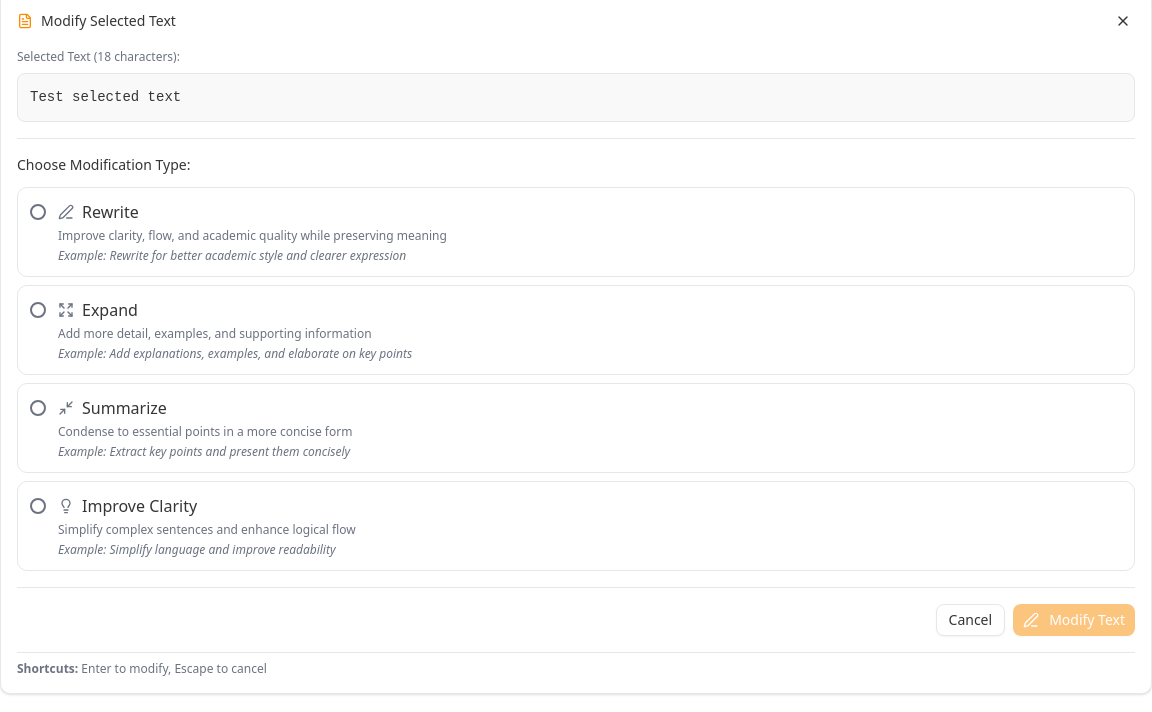
Test: AIModifyInterface › enables the modify button when an option is selected
Expected: the button "Modify Text" is disabled, x1=1013 y1=604 x2=1135 y2=636
Click the button "Rewrite": (110, 212) x1=17 y1=187 x2=1135 y2=277
(page scrolled)
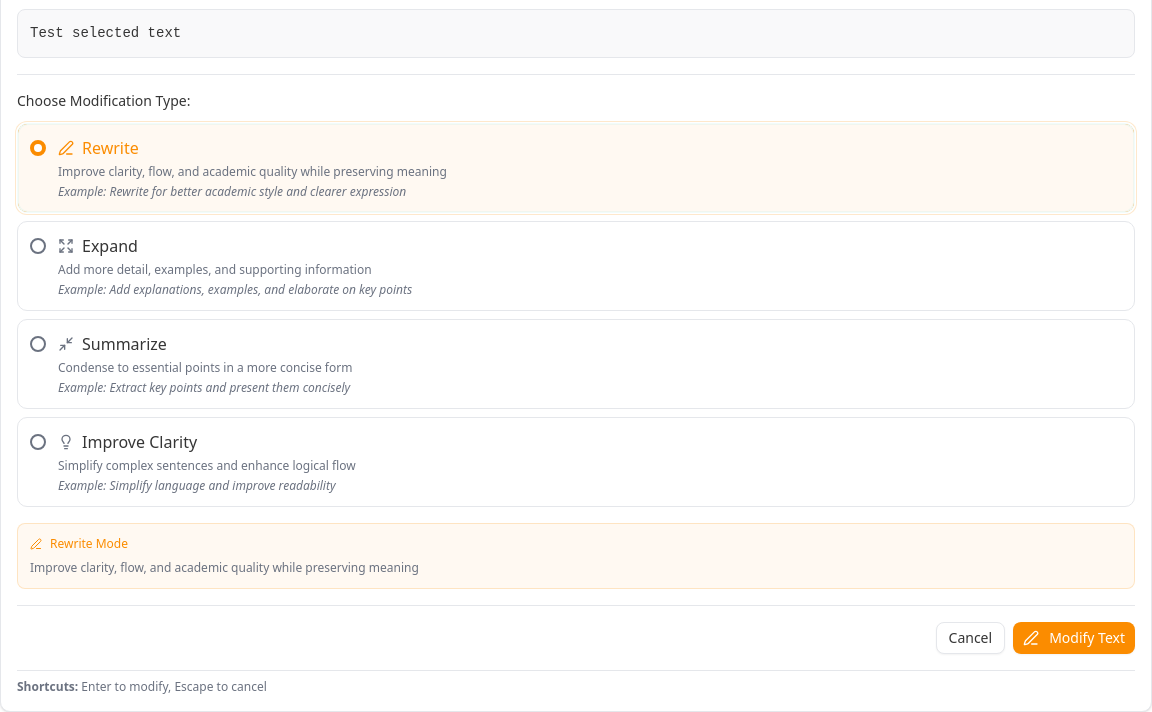
Now the button "Modify Text" is enabled, box x1=1013 y1=622 x2=1135 y2=654
